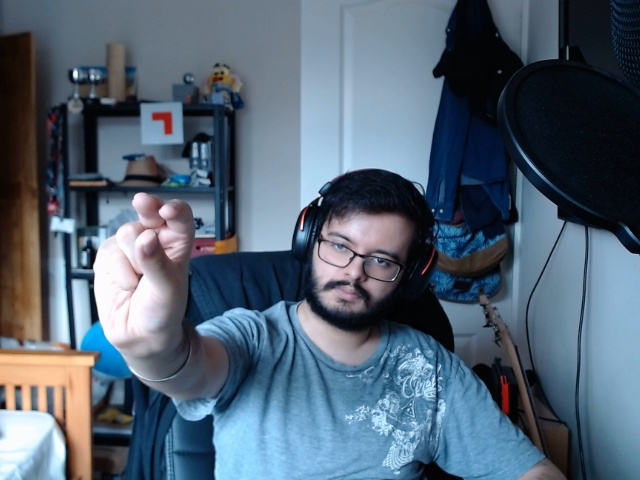No: (84, 177, 226, 355)
